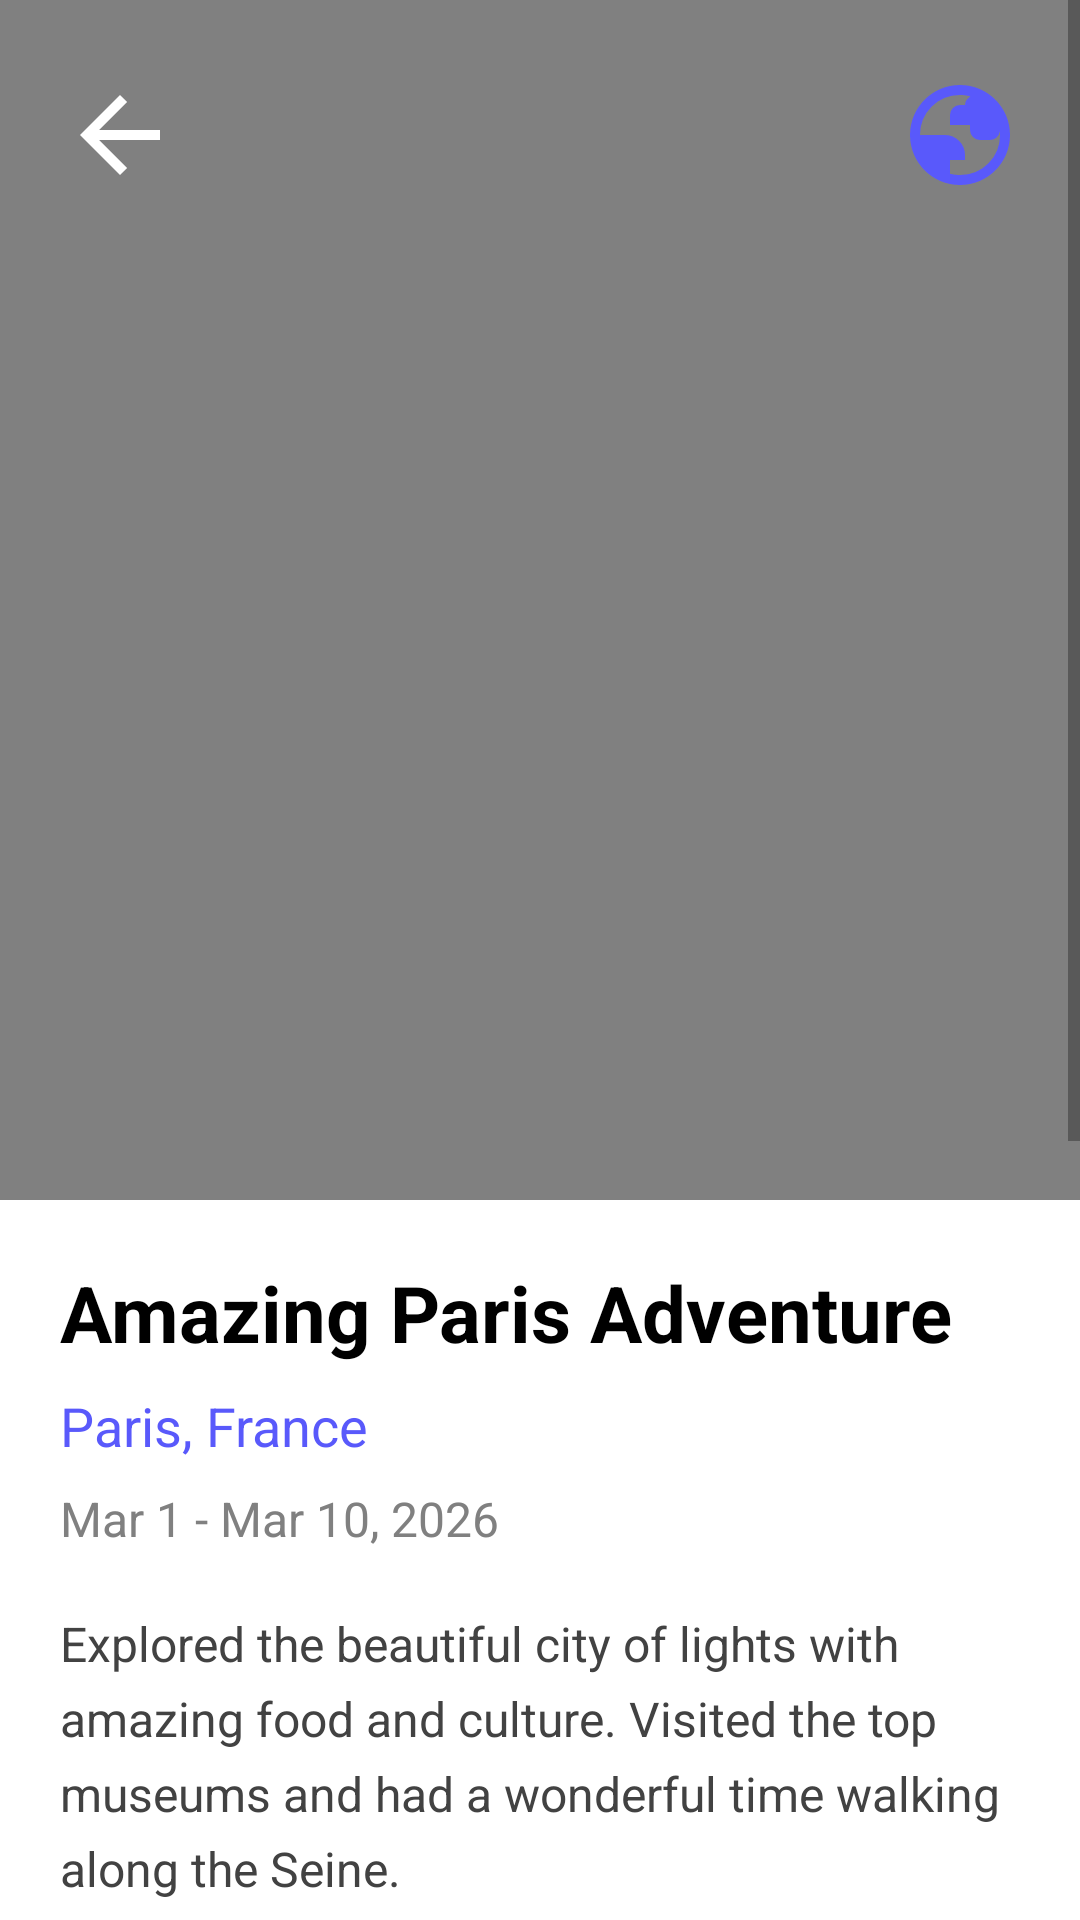

Icon bounding boxes for this 1080 x 1920 phone screenshot, format (x1, y1, x2, y2):
back: (80, 95, 160, 175)
globe: (910, 85, 1010, 185)
